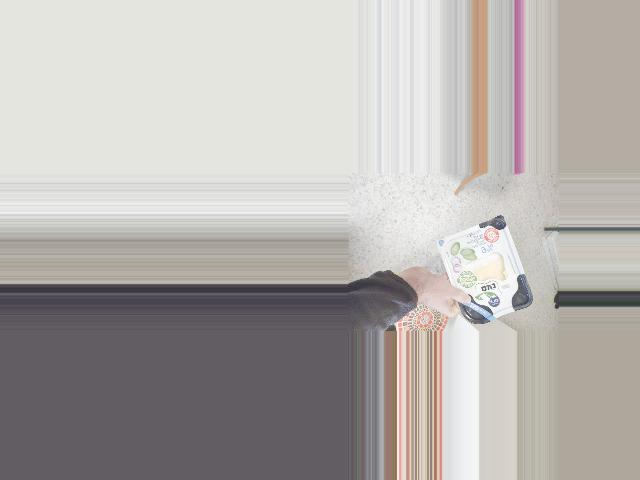cheese: (446, 226, 514, 312)
